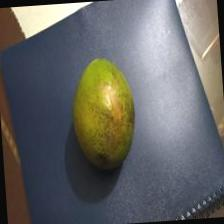Orange Rotten: (58, 40, 144, 190)
